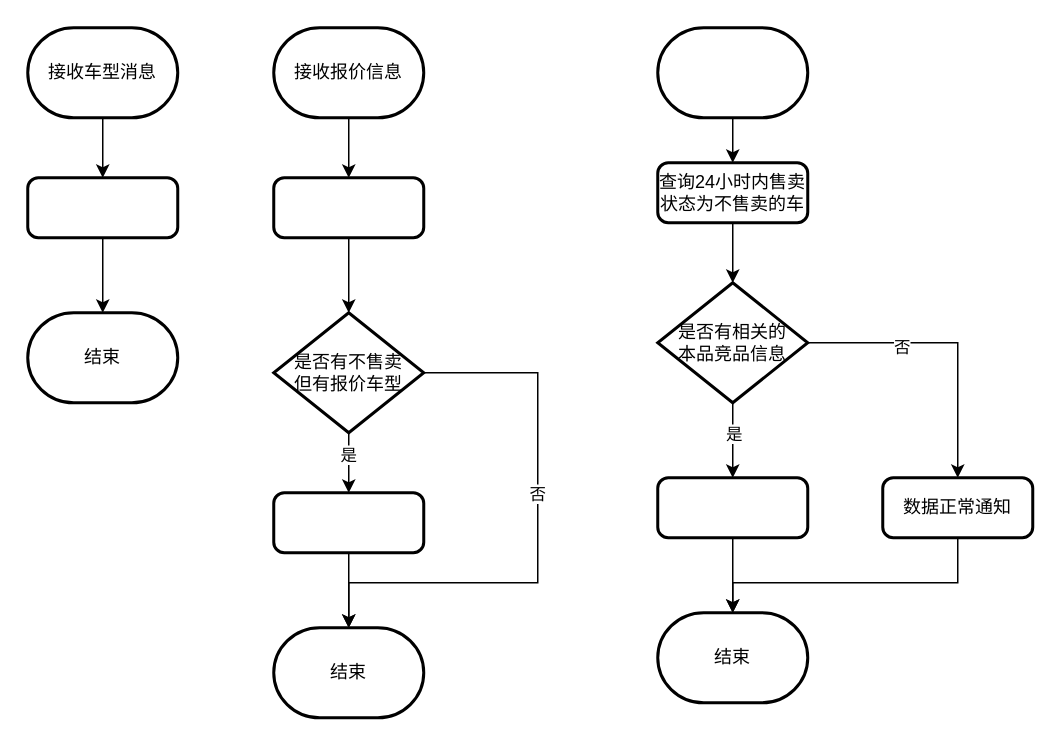
Image size: 1059x744. Some labels were removed from this diagram. Each missing label, with the box of its shape:
发送对应车型邮件: (656, 476, 808, 538)
发送短信: (272, 490, 424, 554)
定时任务: (656, 26, 808, 118)
查询本品竞品信息: (272, 176, 424, 238)
车型消息入库: (26, 176, 178, 238)
